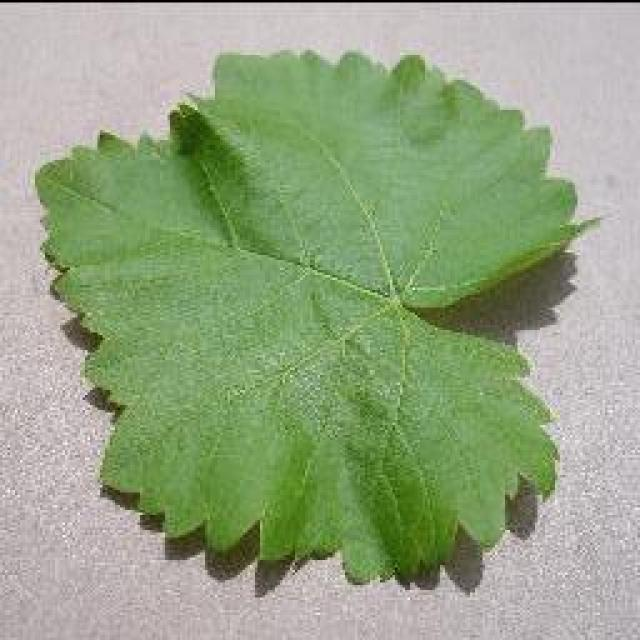Grape___healthy: (29, 39, 621, 599)
